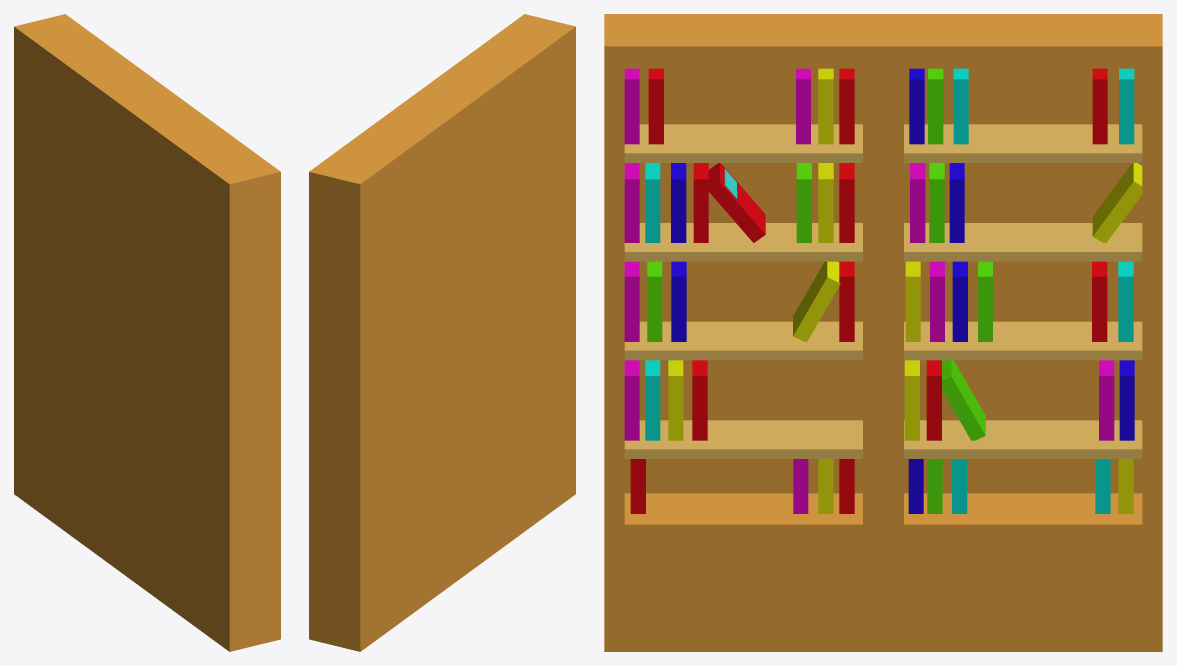
Rendered from Bookshelf 1.fbx.
3 views of the same model, side by side, from view 1: azimuth 30°, elevation 25°; view 2: azimuth 150°, elevation 25°; view 3: azimuth 270°, elevation 25° (orthographic). The views are drawn at different scales.
Visible parts, largest first — view 1: Cube; view 2: Cube; view 3: Cube, Cube.001, Cube.002, Cube.068, Cube.047, Cube.028, Cube.042, Cube.029, Cube.030, Cube.034, Cube.035, Cube.036 (+42 smaller).
Part boxes in pixels (x1=…): Cube: x1=14, y1=14, x2=280, y2=651; Cube: x1=309, y1=14, x2=575, y2=651; Cube: x1=604, y1=14, x2=1162, y2=651; Cube.001: x1=904, y1=124, x2=1142, y2=458; Cube.002: x1=624, y1=124, x2=862, y2=458; Cube.068: x1=1092, y1=163, x2=1142, y2=242; Cube.047: x1=708, y1=163, x2=765, y2=242; Cube.028: x1=793, y1=261, x2=840, y2=341; Cube.042: x1=942, y1=360, x2=985, y2=440; Cube.029: x1=1118, y1=261, x2=1133, y2=341; Cube.030: x1=671, y1=261, x2=686, y2=341; Cube.034: x1=668, y1=360, x2=683, y2=440; Cube.035: x1=926, y1=360, x2=941, y2=440; Cube.036: x1=692, y1=360, x2=707, y2=440.
Size of the model in its own units: 85.09 by 740 by 618.
